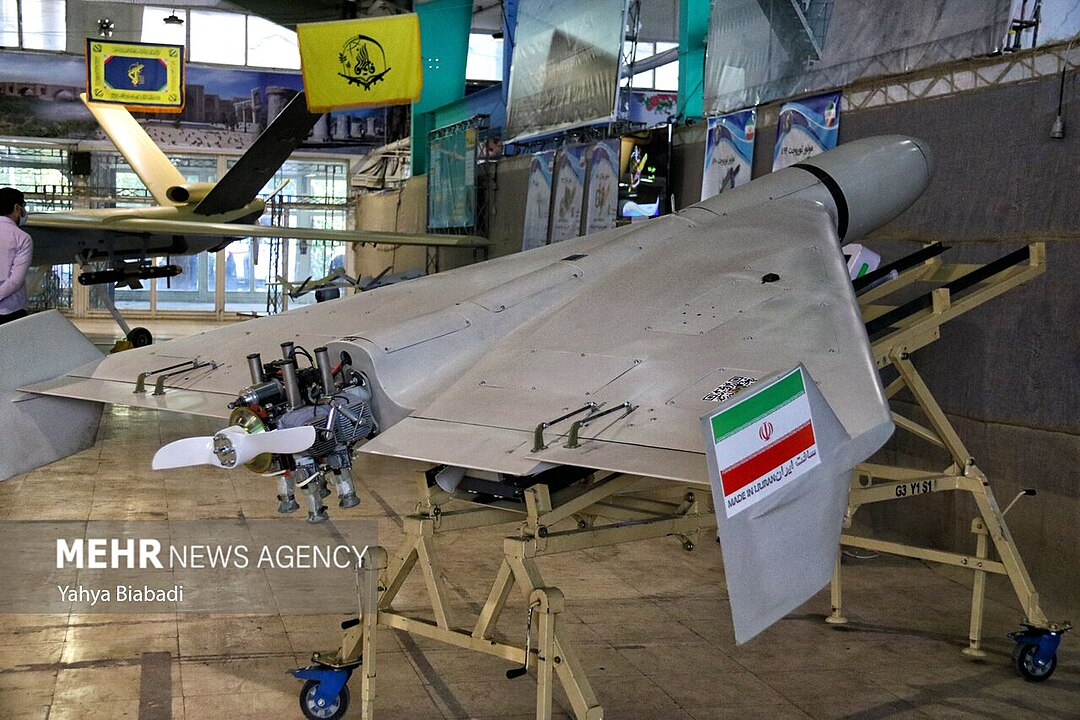shahed: (1, 133, 941, 648)
